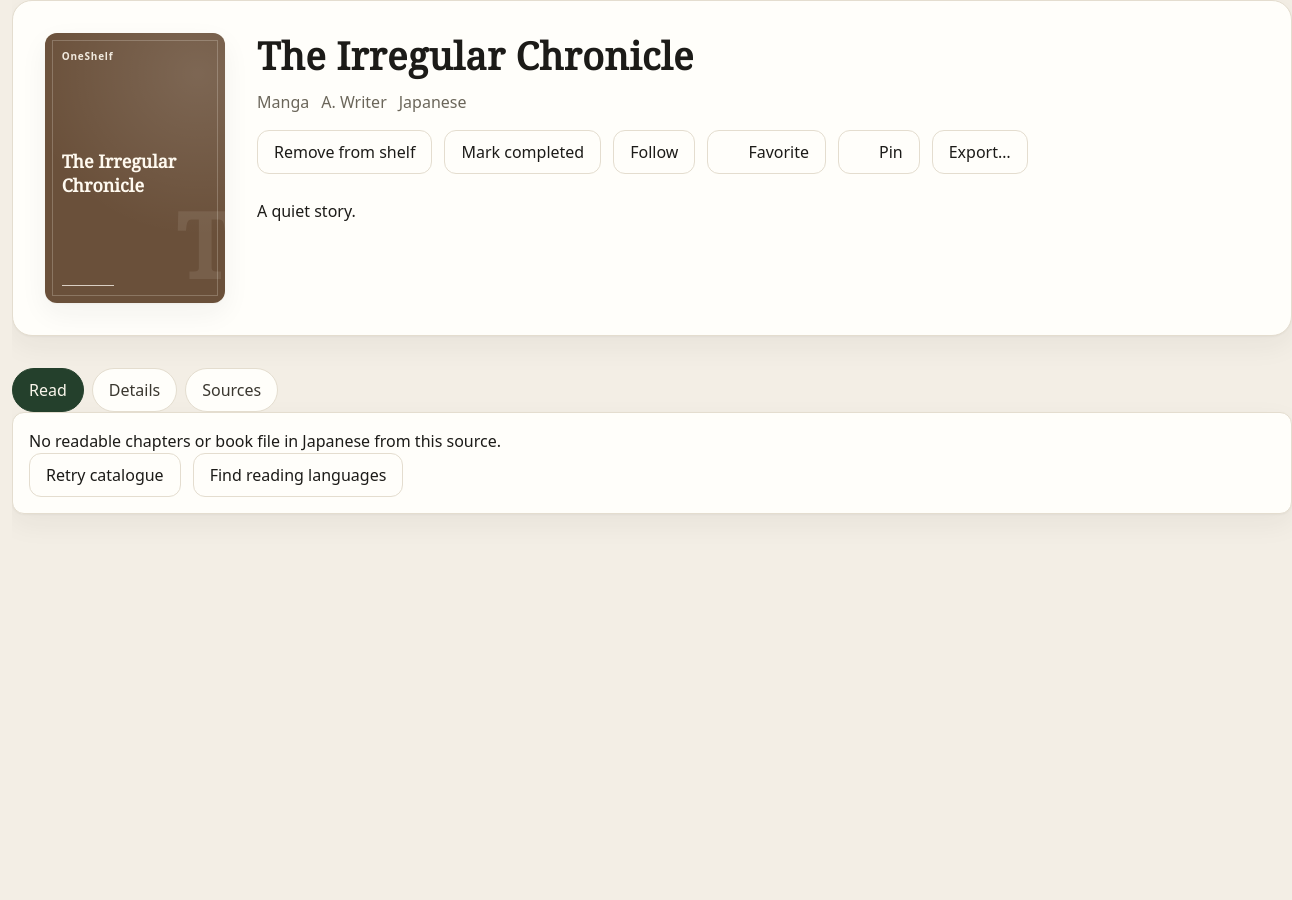
Test: Work Details › lets an empty source track open an available translation without replacing its saved track
Click the tab "Sources". click: (232, 390)
box: [185,368,278,412]
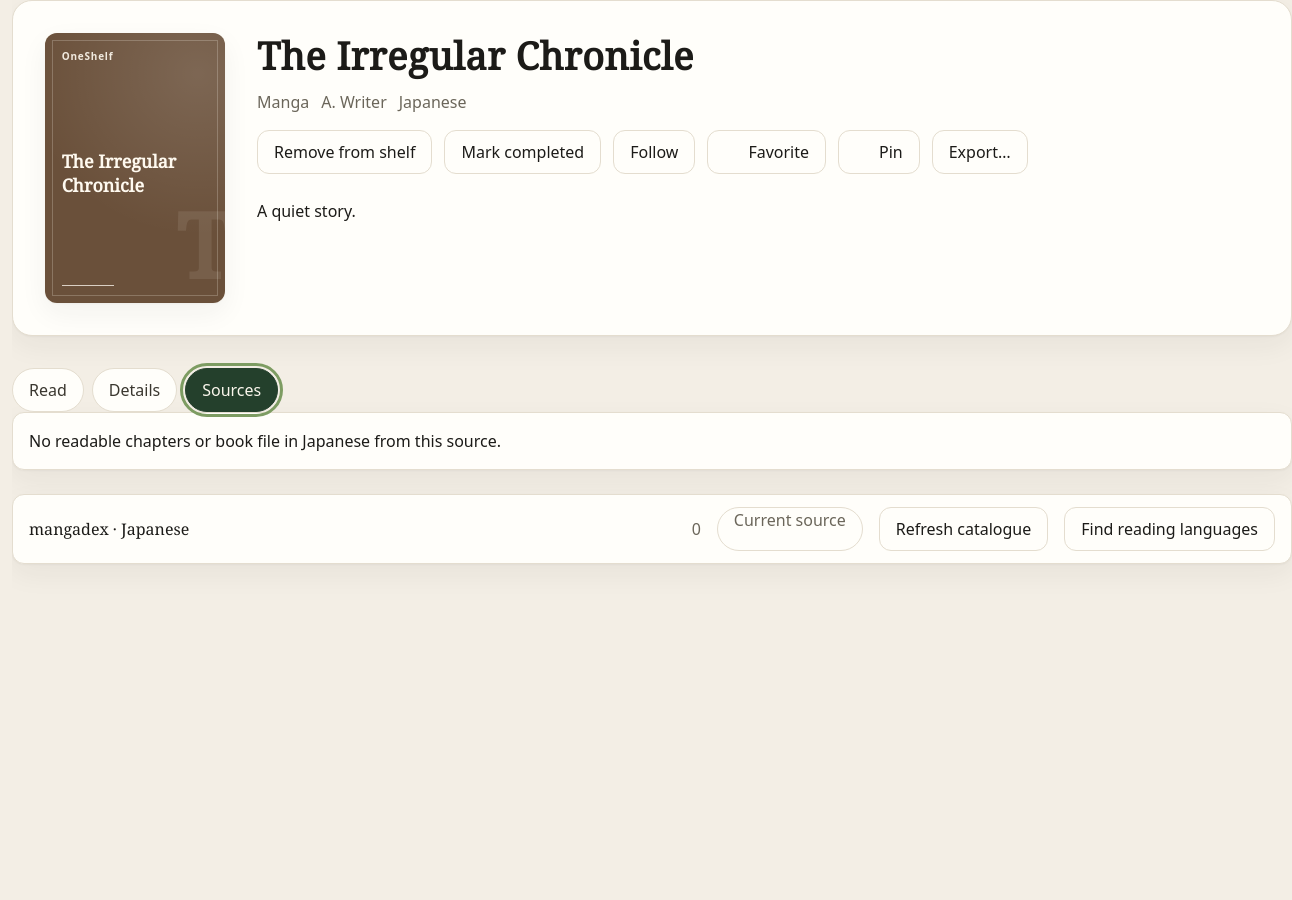
Click the button "Find reading languages". click: (1170, 529)
box: [1064,507,1275,551]
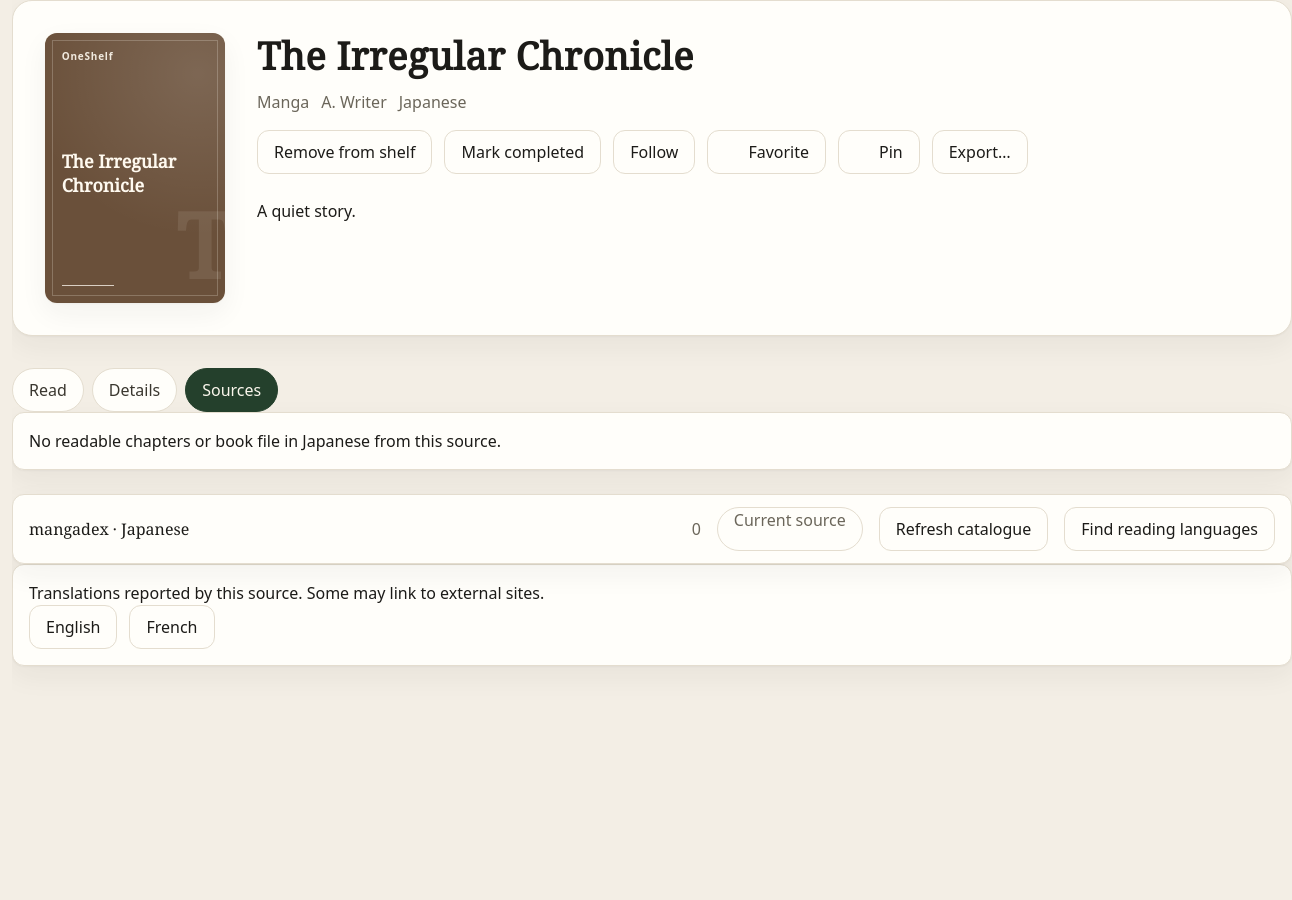
Click the button "English". click: (73, 627)
box: [29,605,117,649]
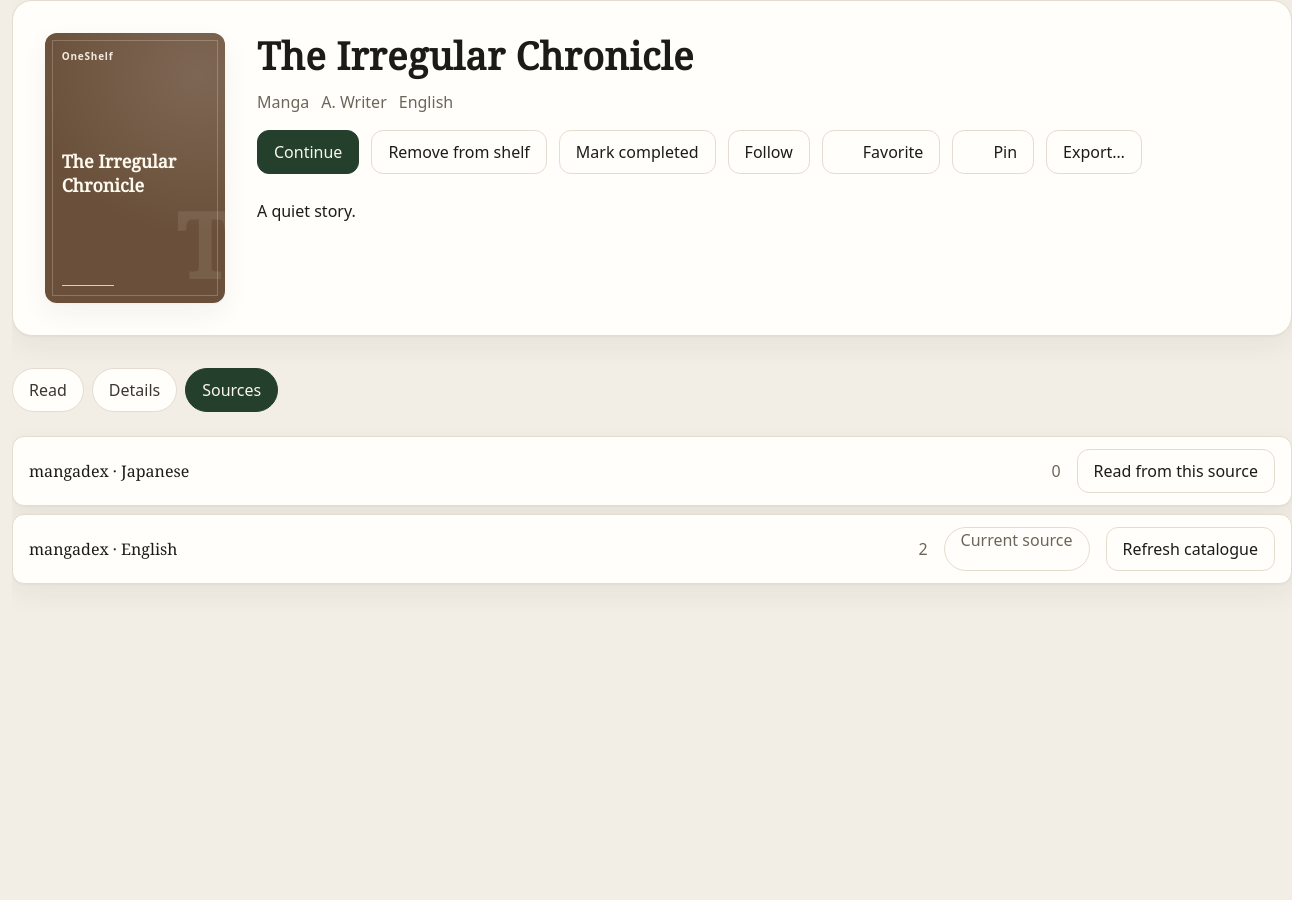
Click the tab "Read". click: (48, 390)
box: [12,368,84,412]
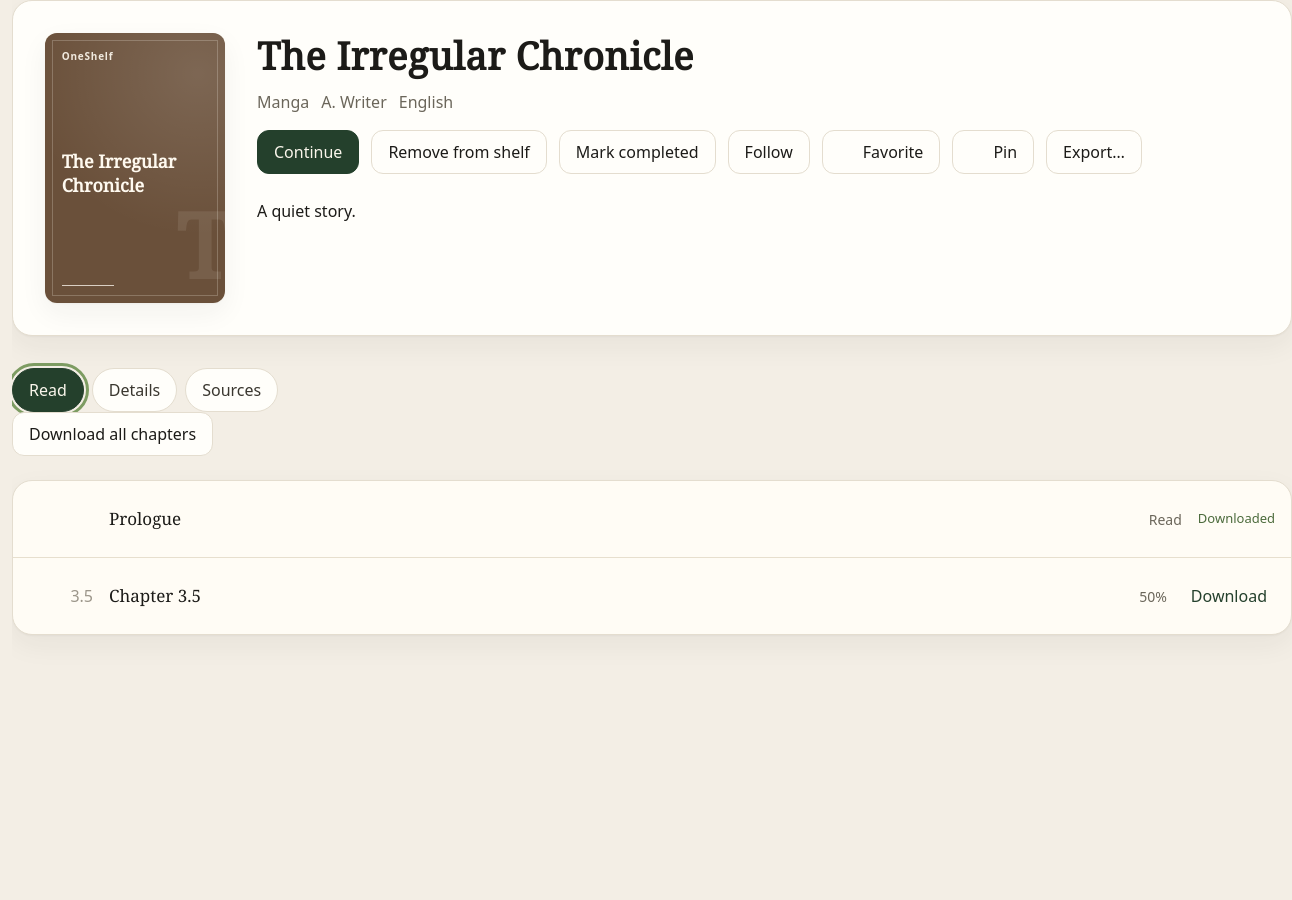
Check: the link "3.5 Chapter 3.5" is shown, box [70,584,201,607]
